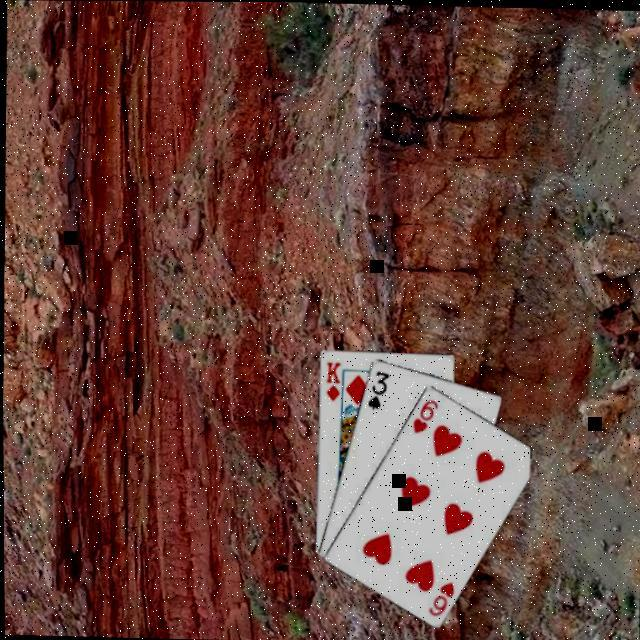3S: (362, 368, 389, 412)
6H: (422, 578, 454, 620), (407, 397, 438, 438)
KD: (320, 359, 340, 404)
